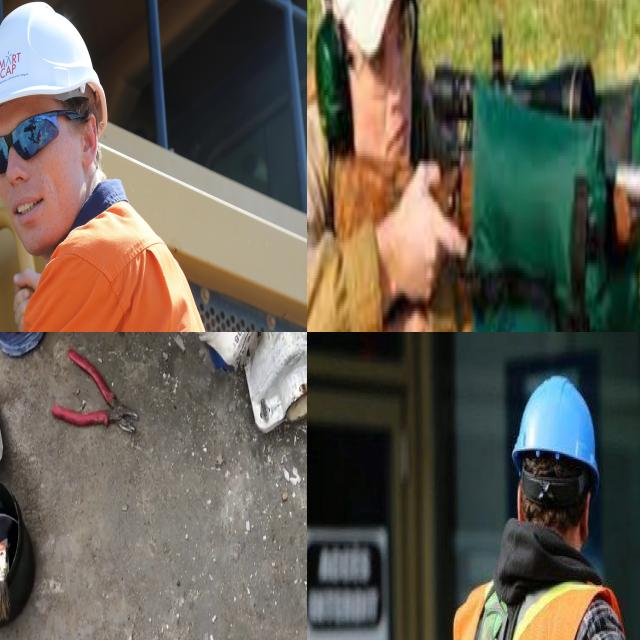Ear-protection: (316, 0, 429, 209)
No_Ear-Protection: (74, 104, 102, 178), (580, 484, 593, 538)
face_nomask: (0, 109, 100, 255)
glasses: (0, 108, 60, 183)
hand_glove: (171, 332, 259, 370)
head_helmet: (0, 0, 112, 116), (509, 372, 603, 484)
person: (0, 0, 259, 332), (442, 376, 640, 640), (307, 0, 463, 332)
vest: (22, 253, 256, 332), (446, 573, 640, 640)
